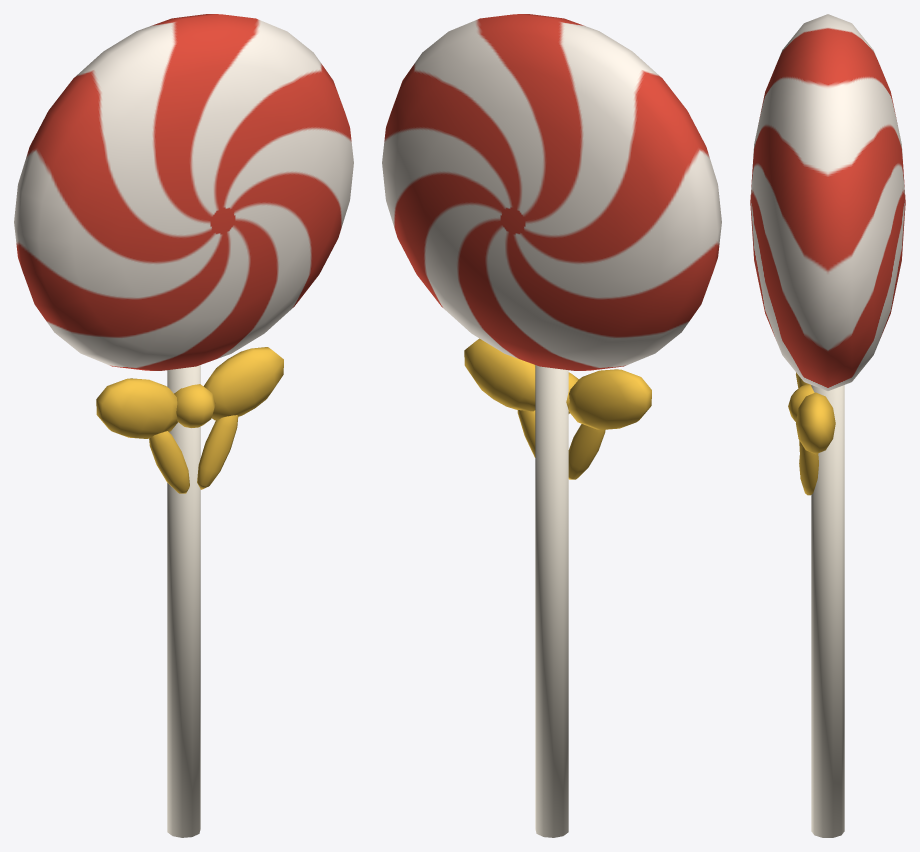
The model's file is big-candy.glb.
3 views of the same model, side by side, from view 1: azimuth 30°, elevation 25°; view 2: azimuth 150°, elevation 25°; view 3: azimuth 270°, elevation 25° (orthographic).
Parts seen in each view (by area): view 1: candy, stick; view 2: candy, stick; view 3: candy, stick.
Part boxes in pixels (bbox=[...]): candy: bbox=[14, 14, 353, 370]; stick: bbox=[96, 347, 283, 837]; candy: bbox=[382, 14, 721, 370]; stick: bbox=[464, 338, 651, 837]; candy: bbox=[750, 14, 905, 390]; stick: bbox=[788, 372, 844, 837].
Size of the model in its own units: 0.68 by 1.59 by 0.28.
Materials: 1 (1 with a texture image).
